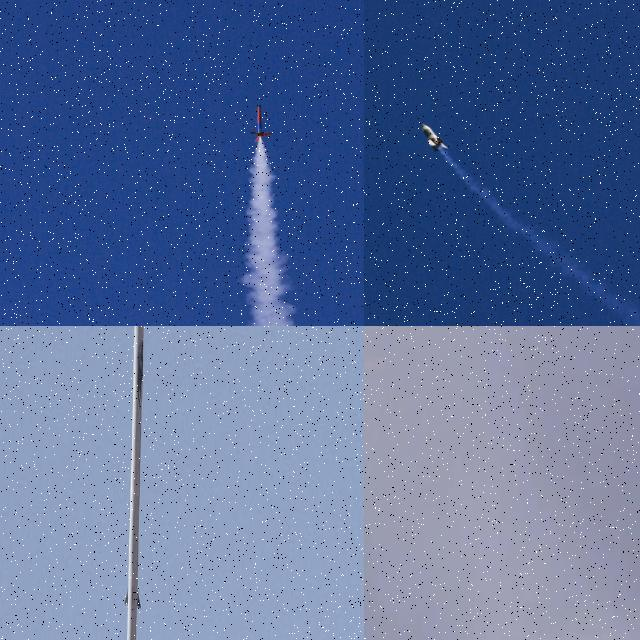Rocket: (112, 326, 147, 640), (248, 104, 274, 142), (421, 124, 448, 152)
